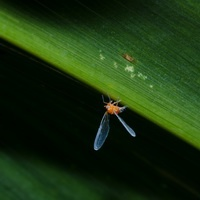insect: (94, 95, 135, 149)
